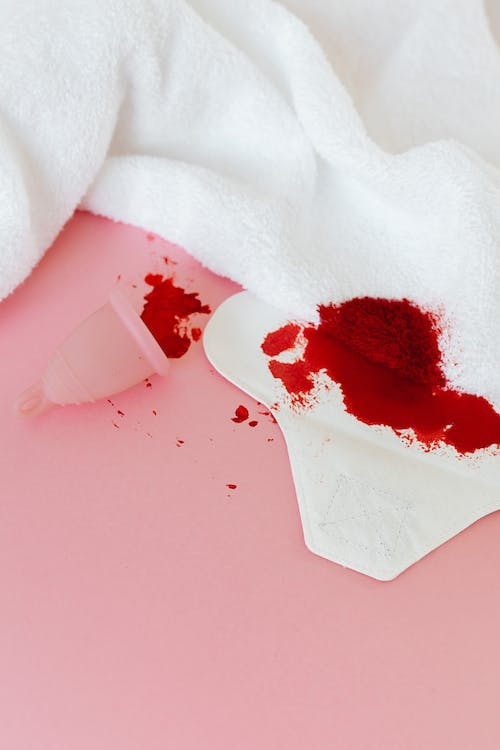blood: (257, 294, 500, 472), (103, 375, 278, 492), (113, 231, 212, 362)
